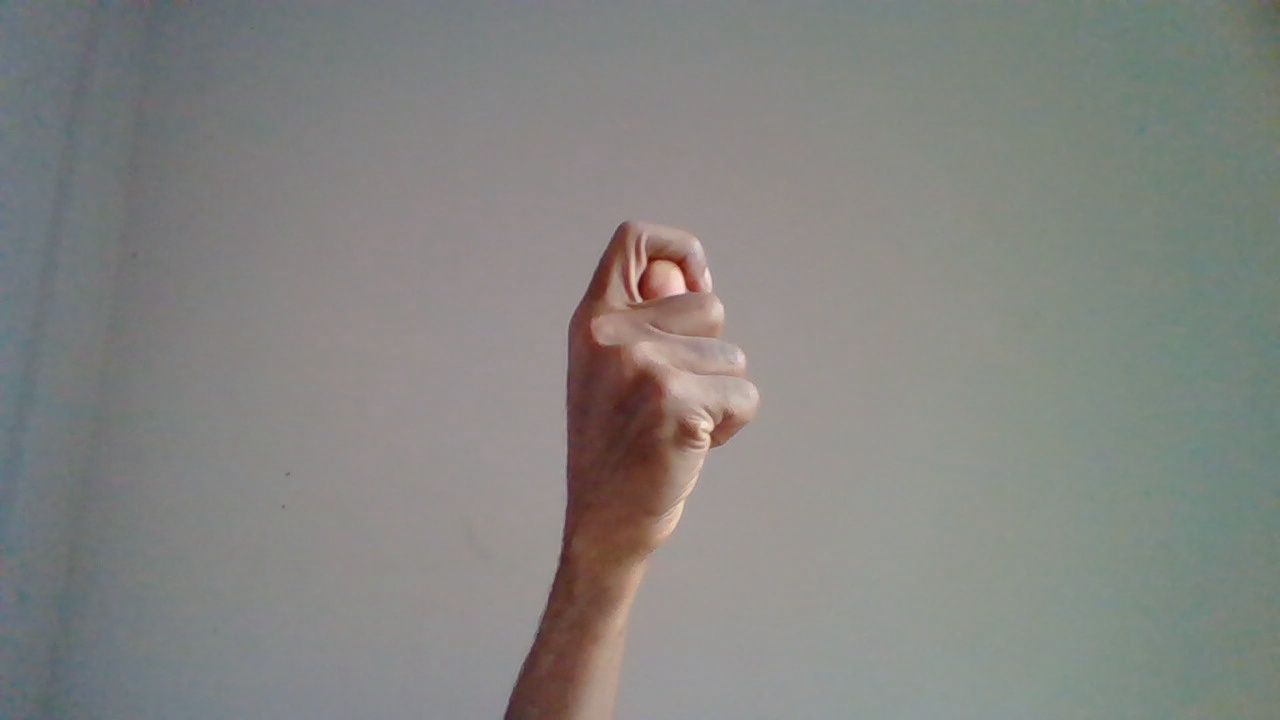che: (563, 219, 764, 661)
